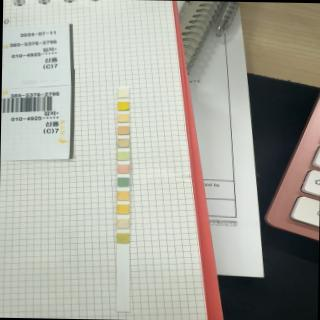mark: (116, 232, 130, 243), (117, 138, 130, 148), (117, 164, 129, 174), (116, 177, 128, 187), (117, 190, 129, 200), (116, 219, 129, 228), (118, 100, 129, 110), (116, 204, 128, 213), (117, 126, 129, 134), (117, 152, 129, 160), (117, 90, 128, 98), (118, 114, 128, 122)
